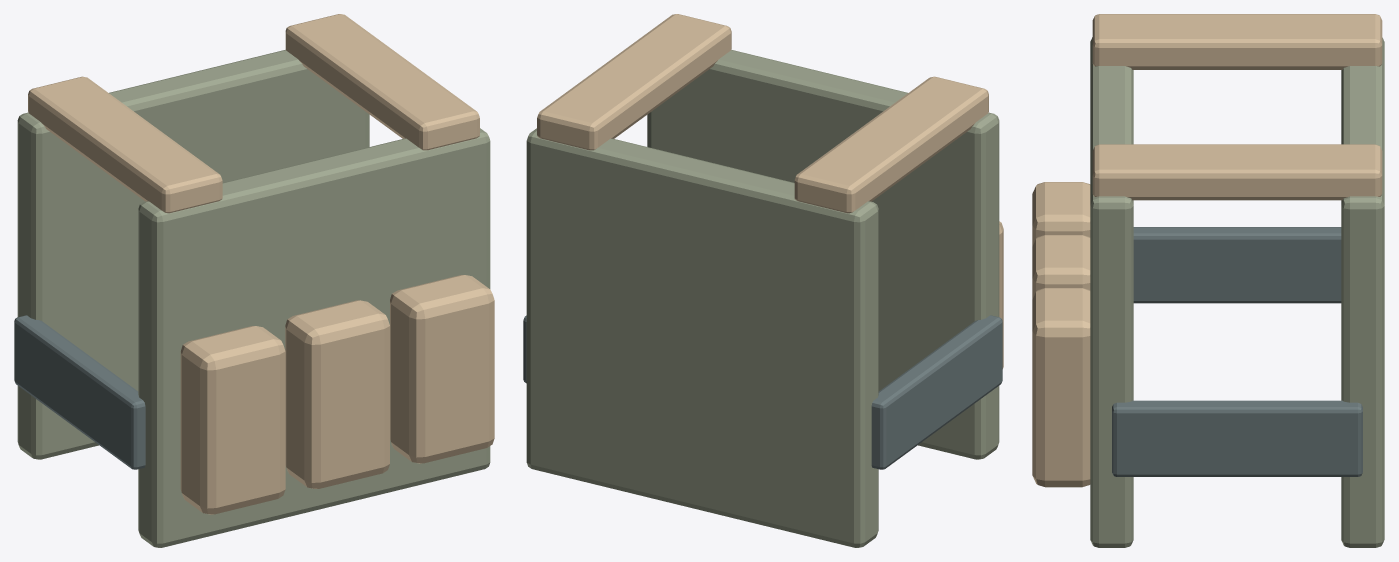
The picture shows the model from 3 angles, left to right: view 1: azimuth 30°, elevation 25°; view 2: azimuth 150°, elevation 25°; view 3: azimuth 270°, elevation 25°; orthographic projection. The views are drawn at different scales.
Visible parts, largest first — view 1: carrier panel, carrier panel.001, magazine utility pouch, magazine utility pouch.002, magazine utility pouch.001, shoulder bridge.001, shoulder bridge, side adjustment; view 2: carrier panel.001, carrier panel, shoulder bridge, shoulder bridge.001, side adjustment, magazine utility pouch; view 3: side adjustment.001, carrier panel.001, carrier panel, shoulder bridge.001, side adjustment, shoulder bridge, magazine utility pouch.002, magazine utility pouch, magazine utility pouch.001.
Boxes of the visible parts, x1,y1,x2,y2 form: carrier panel: (138,128,490,547); carrier panel.001: (17,50,369,459); magazine utility pouch: (180,326,285,514); magazine utility pouch.002: (390,275,494,463); magazine utility pouch.001: (285,300,389,488); shoulder bridge.001: (285,14,479,150); shoulder bridge: (28,76,222,213); side adjustment: (14,315,145,469); carrier panel.001: (526,128,878,547); carrier panel: (647,49,999,459); shoulder bridge: (794,76,988,213); shoulder bridge.001: (537,14,731,150); side adjustment: (871,315,1002,469); magazine utility pouch: (999,221,1003,368); side adjustment.001: (1112,400,1362,476); carrier panel.001: (1341,37,1384,547); carrier panel: (1090,37,1133,547); shoulder bridge.001: (1092,144,1382,200); side adjustment: (1133,227,1341,303); shoulder bridge: (1092,14,1382,69); magazine utility pouch.002: (1032,288,1090,487); magazine utility pouch: (1032,182,1090,246); magazine utility pouch.001: (1032,235,1090,299).
Bounding box in the file's own units: 0.4506 × 0.4275 × 0.365.
